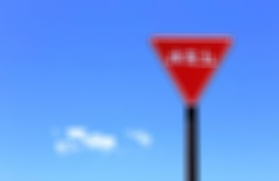Regulatory_sign_triangle: (145, 28, 234, 114)
